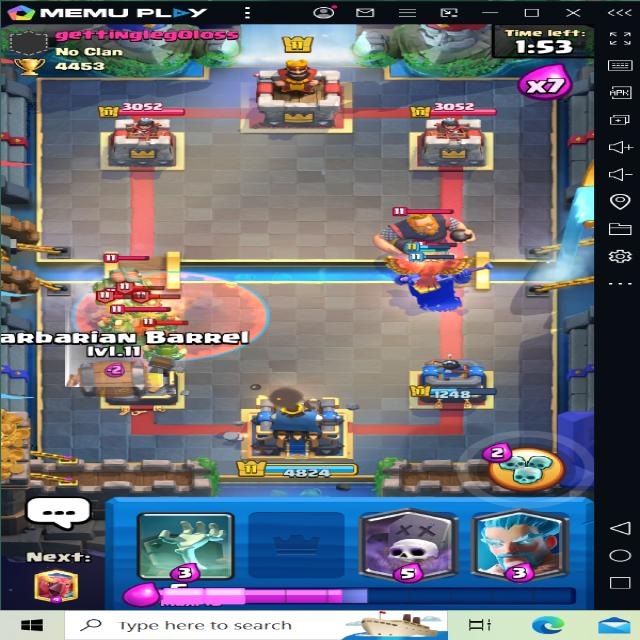golem: (96, 302, 196, 362)
royal-giant: (380, 202, 483, 256)
royal-recruits: (141, 326, 191, 370), (101, 295, 134, 333)
sparky: (93, 248, 163, 308)
